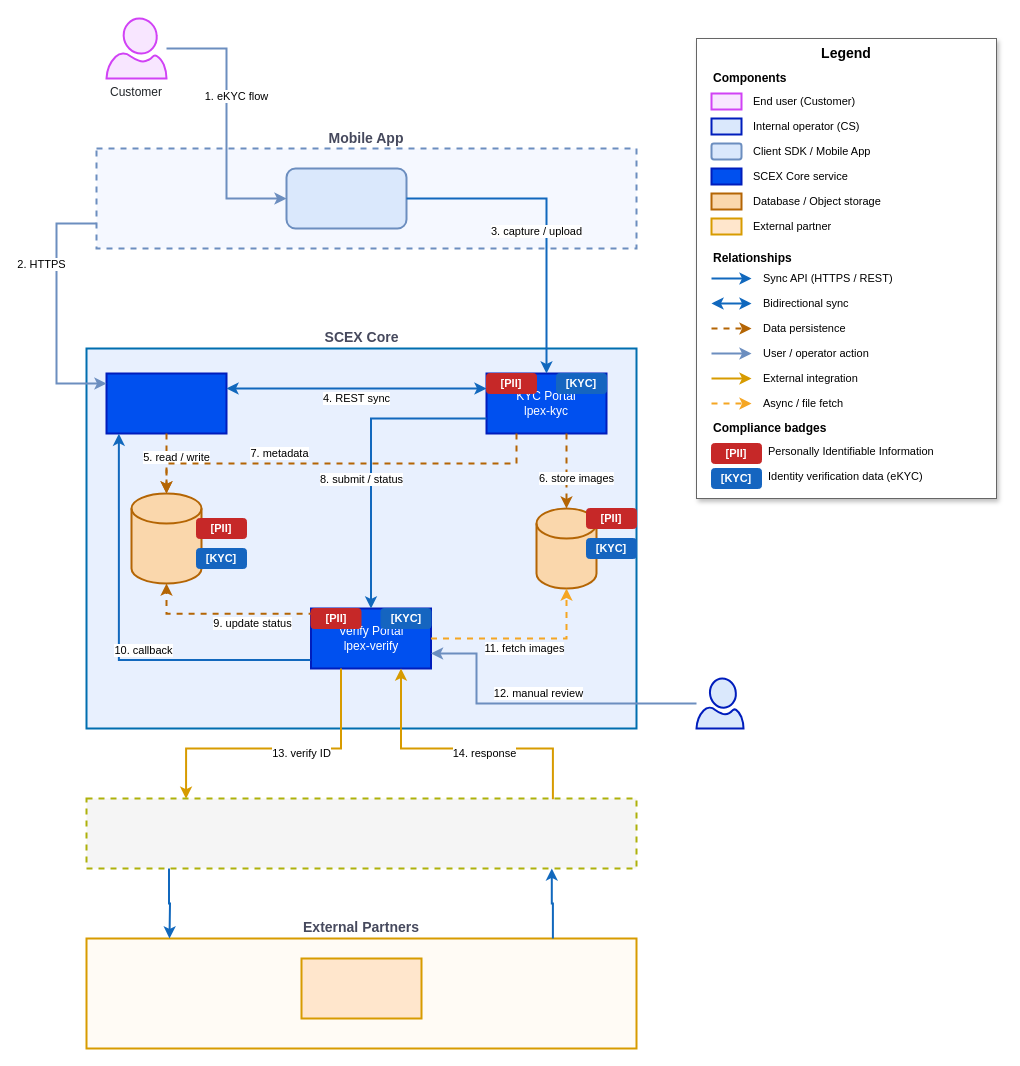
Image size: 1020x1066. Some labels were removed from this diagram. Here are the shapes that lost their labels. From the top down, the centre of each, then its label:
At [346,198]: "KYC".
At [166,403]: "BE Service lpex-be".
At [166,538]: "PostgreSQL (DB Per Service)".
At [566,548]: "Image Storage".
At [719,703]: "Customer Service".
At [361,833]: "RAR Agent Gateway".
At [361,988]: "RAR - C06".
